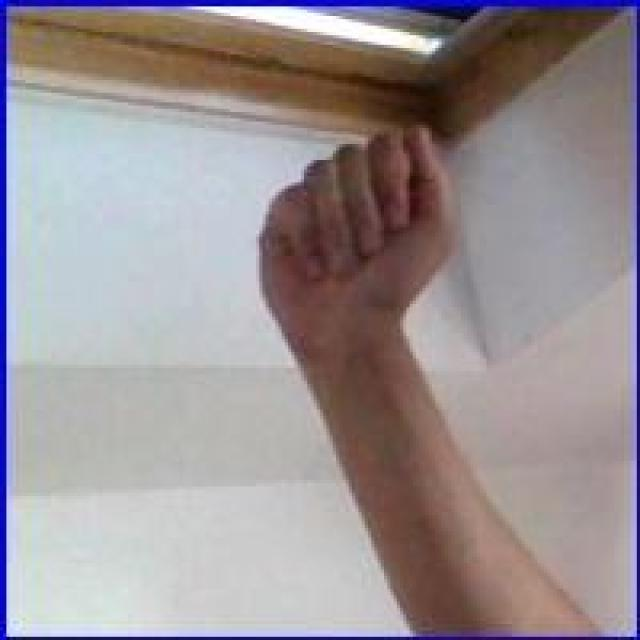A: (258, 123, 462, 338)
